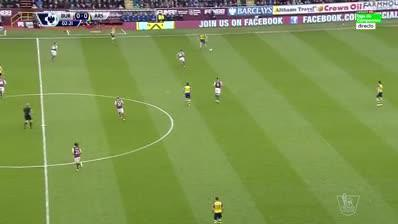futbol: (207, 46, 215, 53)
player: (69, 140, 87, 174), (209, 195, 228, 223), (372, 78, 388, 109), (112, 94, 129, 123), (212, 76, 226, 107), (182, 82, 195, 109), (175, 48, 189, 70), (48, 40, 61, 63), (197, 31, 209, 49), (0, 74, 8, 101), (108, 24, 119, 42)
referree: (21, 102, 36, 133)
